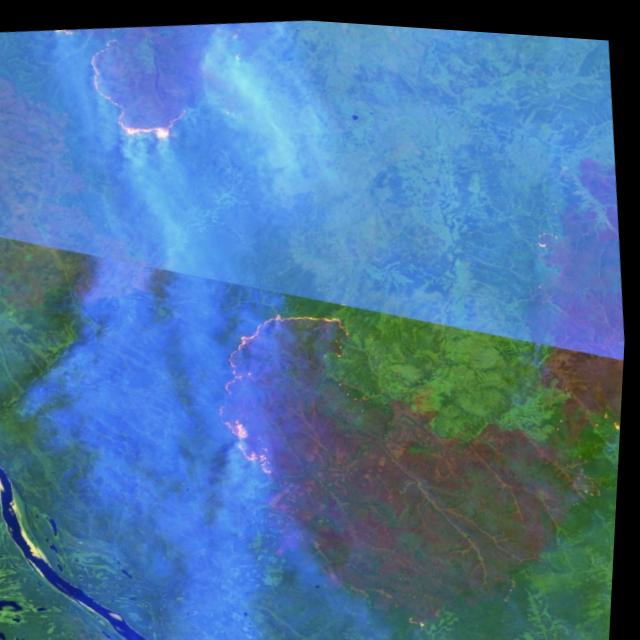fire: (191, 289, 396, 493), (52, 12, 229, 168)
